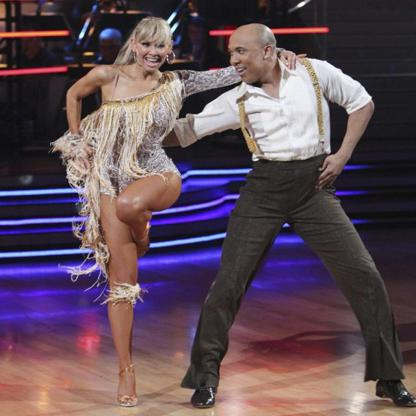face: (229, 24, 264, 83), (138, 17, 170, 71), (100, 34, 122, 60)
